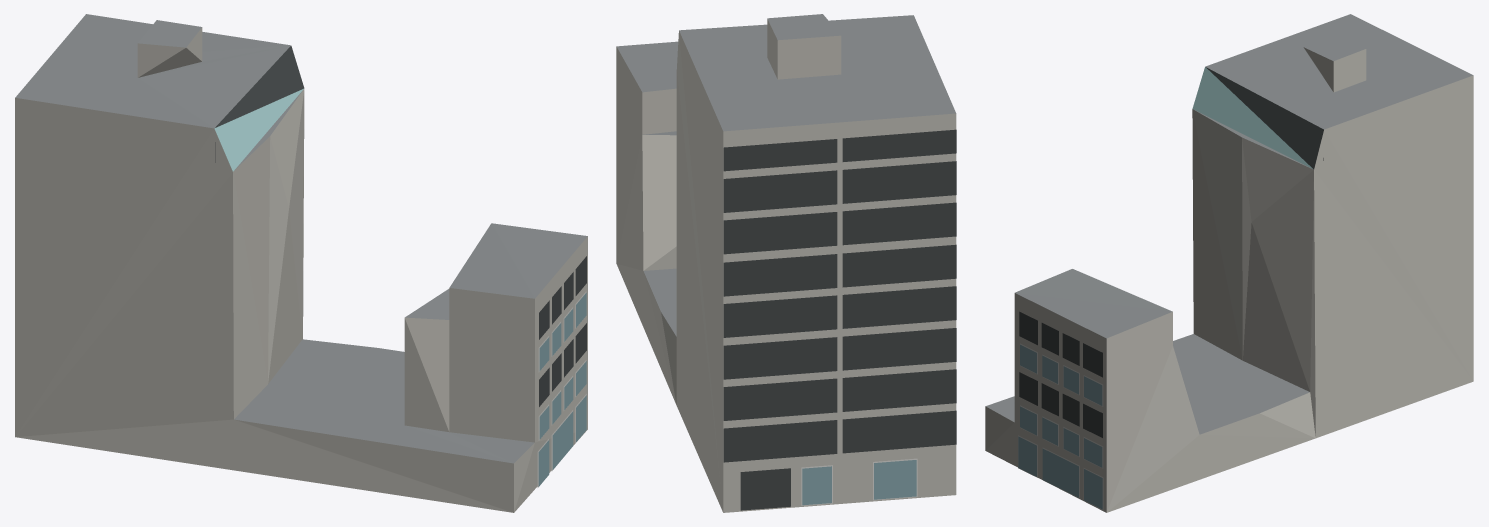
The model's file is haparandaweg-746-786.lod2.glb.
3 renders of one model, left to right at view 1: azimuth 30°, elevation 25°; view 2: azimuth 150°, elevation 25°; view 3: azimuth 270°, elevation 25°, orthographic. The views are drawn at different scales.
Visible parts, largest first — view 1: lod2; view 2: lod2; view 3: lod2.
Boxes of the visible parts, x1=… form: lod2: x1=15, y1=14, x2=587, y2=512; lod2: x1=616, y1=14, x2=956, y2=512; lod2: x1=985, y1=14, x2=1473, y2=512.
Size of the model in its own units: 38.84 by 31.7 by 41.6.
